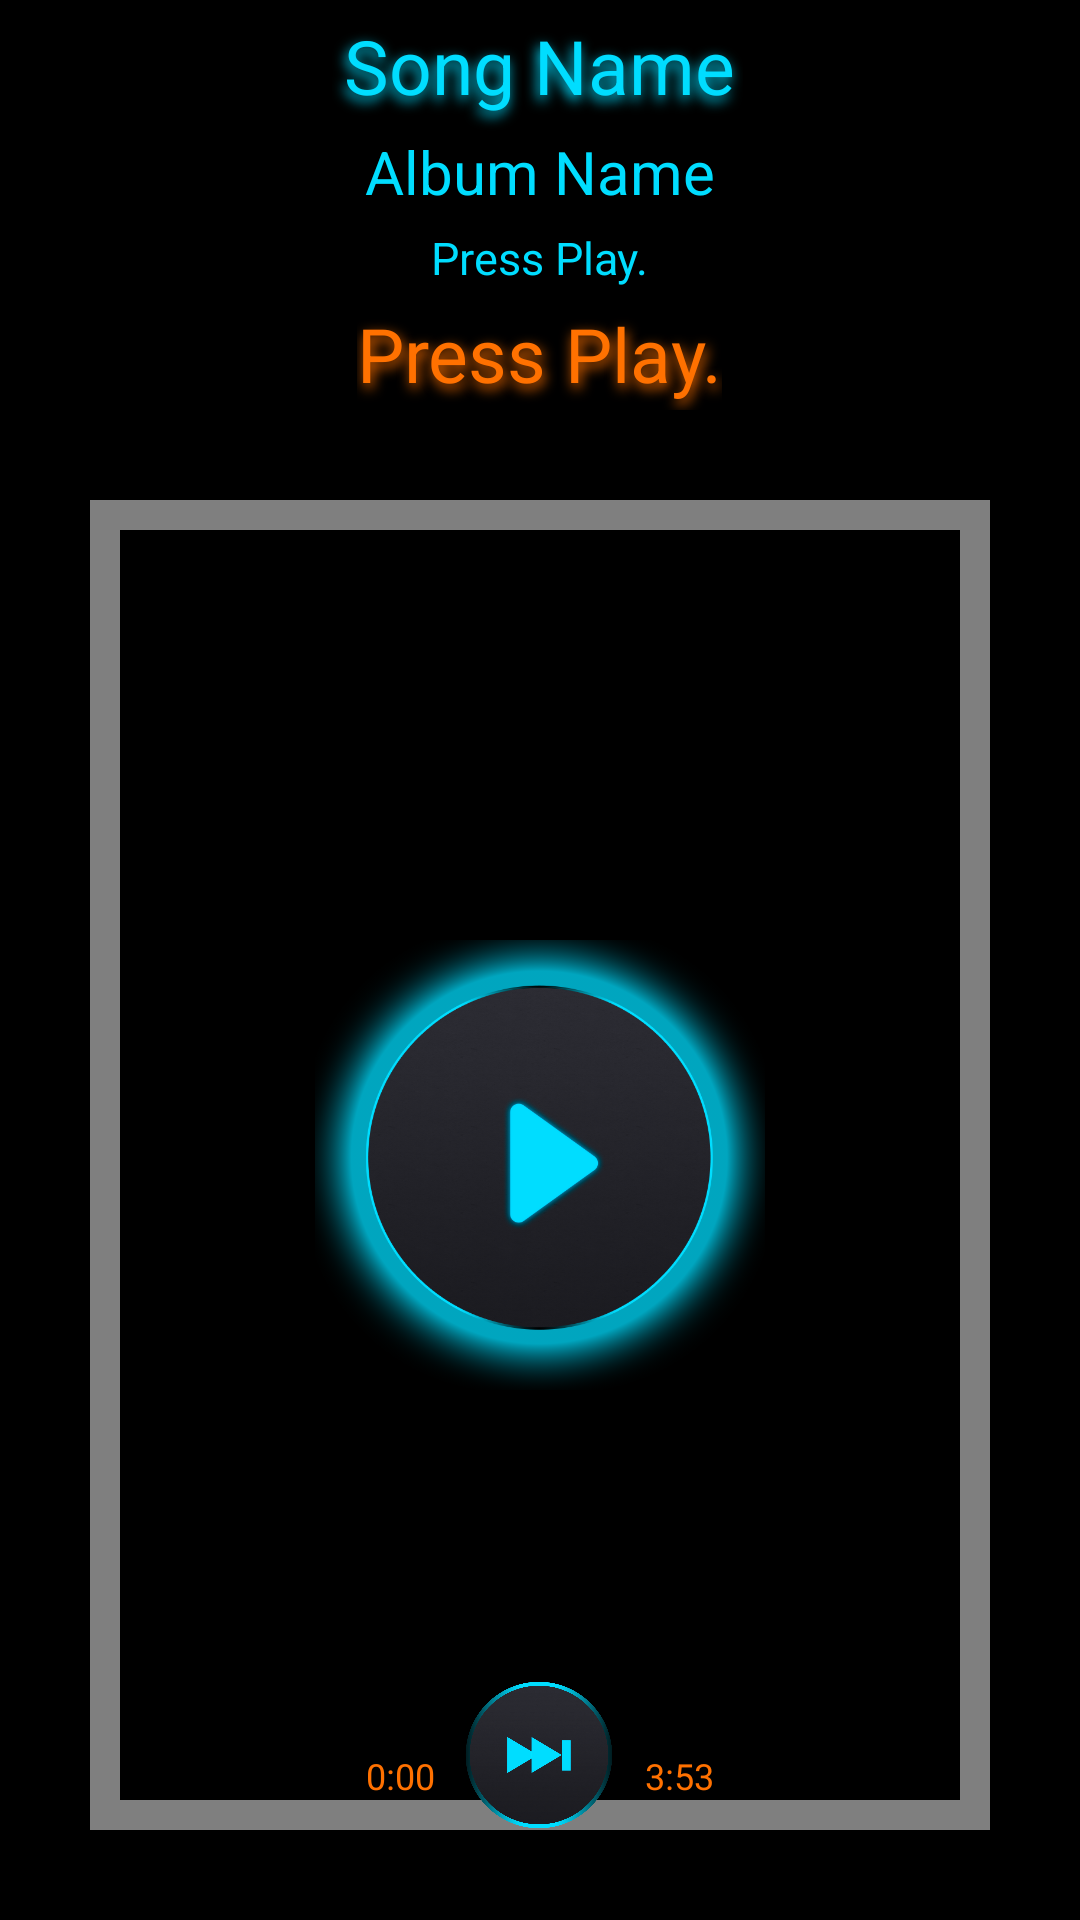

Named icons in this screenshot (1080*1920) and their centers, [x,y]:
nextbutton: [540,1756]
